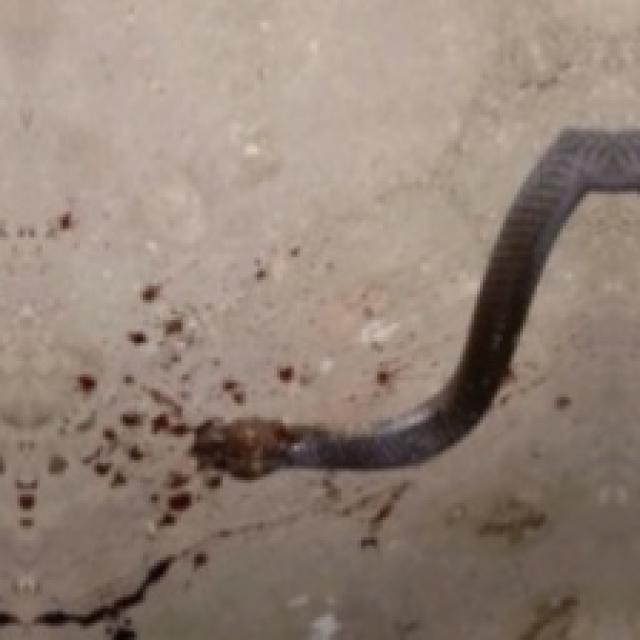king cobra: (191, 129, 637, 477)
